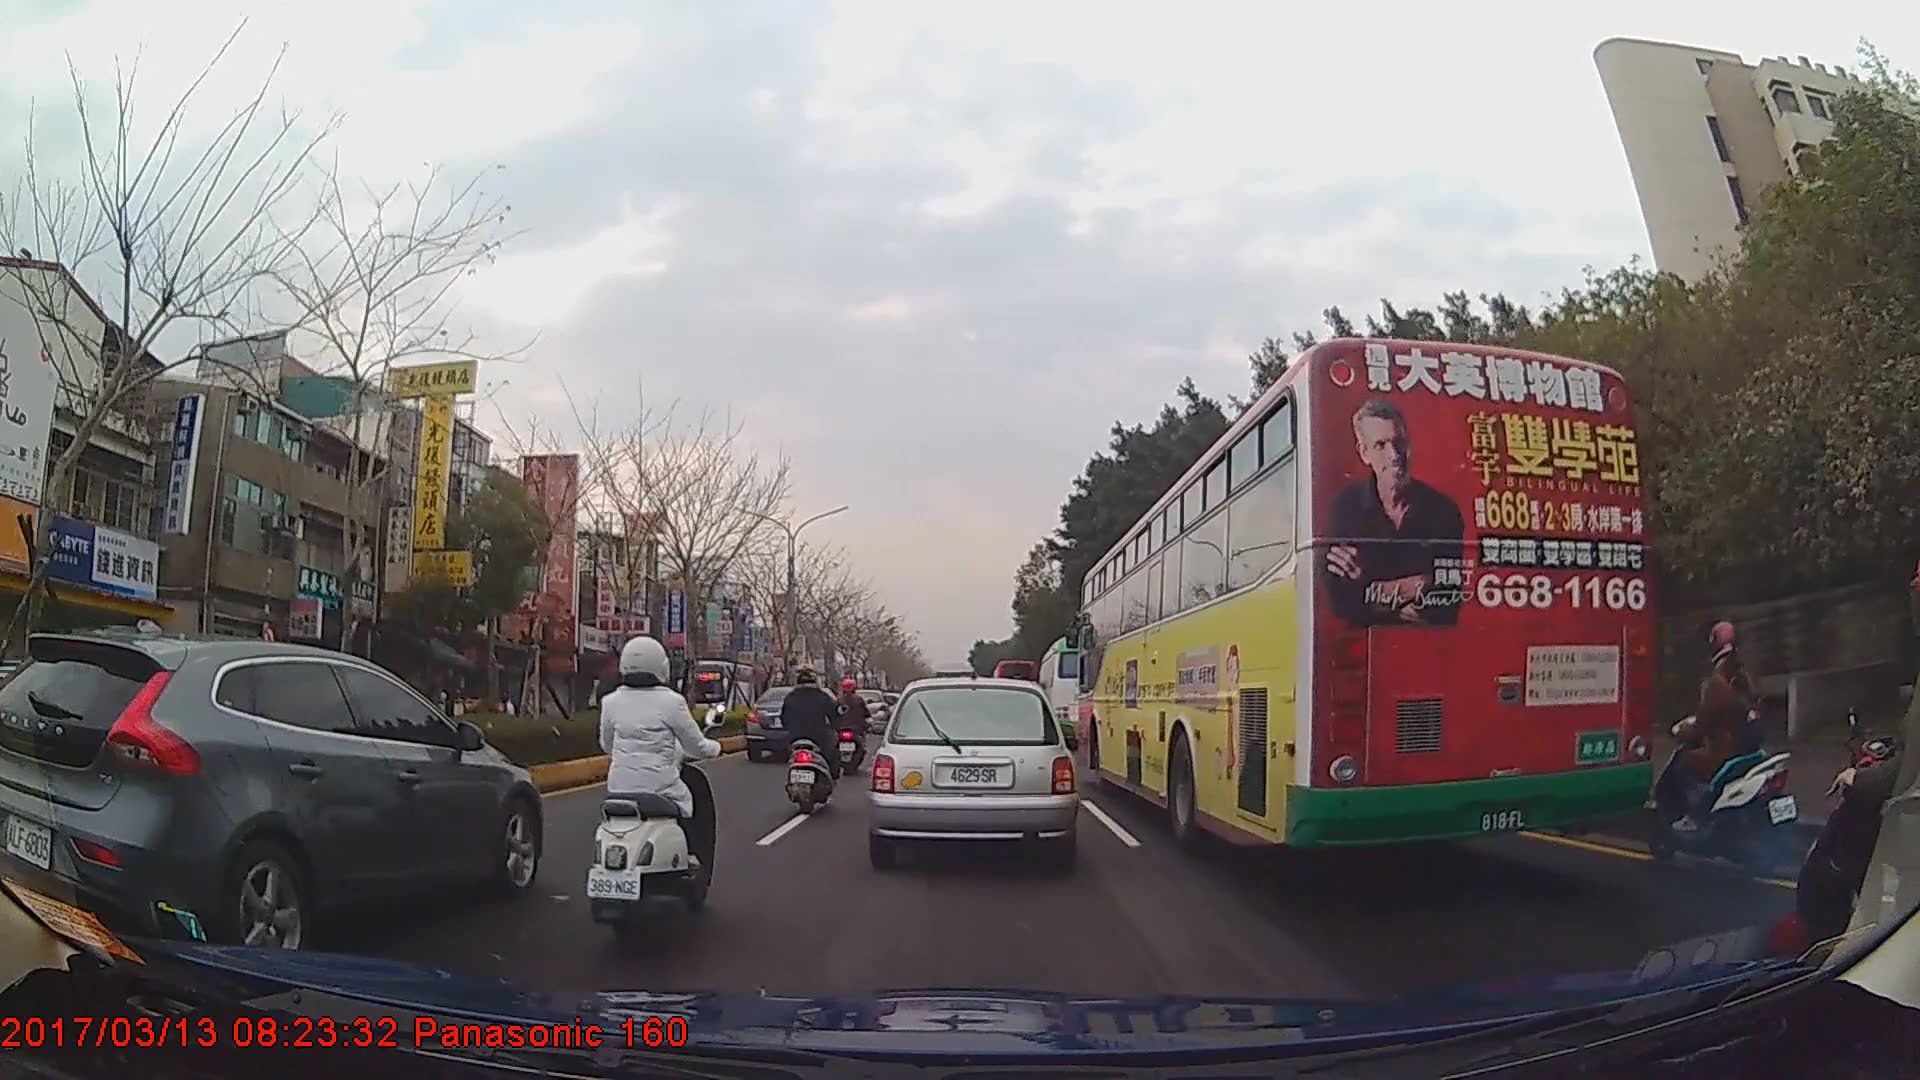rider: (1763, 543, 1920, 1023), (585, 636, 727, 967), (1653, 618, 1793, 868), (776, 667, 838, 816), (833, 680, 871, 773)
vehicle: (1078, 333, 1656, 860), (0, 627, 542, 964), (869, 674, 1075, 868), (1036, 632, 1120, 745), (746, 684, 848, 763), (689, 660, 755, 726)
